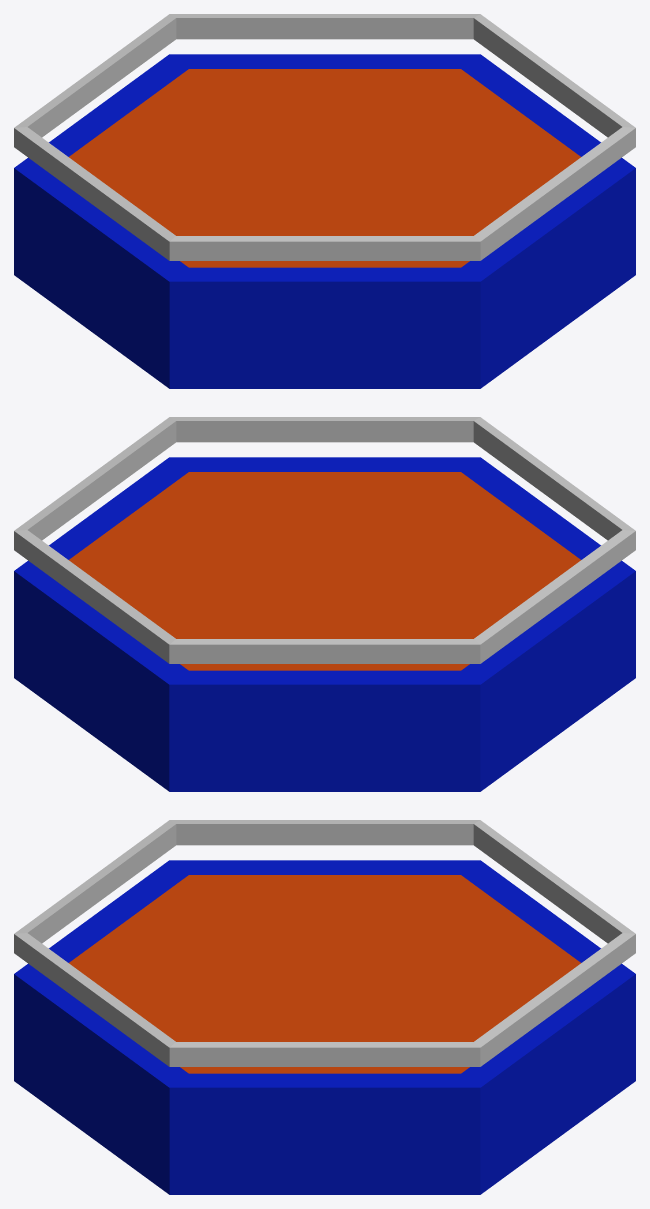
The model's file is hex.obj.
The picture shows the model from 3 angles, top to bottom: view 1: azimuth 30°, elevation 25°; view 2: azimuth 150°, elevation 25°; view 3: azimuth 270°, elevation 25°; orthographic projection.
Visible parts, largest first — view 1: Cylinder, Cylinder.001; view 2: Cylinder, Cylinder.001; view 3: Cylinder, Cylinder.001.
Part boxes in pixels (bbox=[...]): Cylinder: bbox=[14, 54, 635, 388]; Cylinder.001: bbox=[14, 14, 635, 260]; Cylinder: bbox=[14, 457, 635, 791]; Cylinder.001: bbox=[14, 417, 635, 663]; Cylinder: bbox=[14, 860, 635, 1194]; Cylinder.001: bbox=[14, 820, 635, 1066].
Size of the model in its own units: 2.01 by 0.6087 by 2.32.
